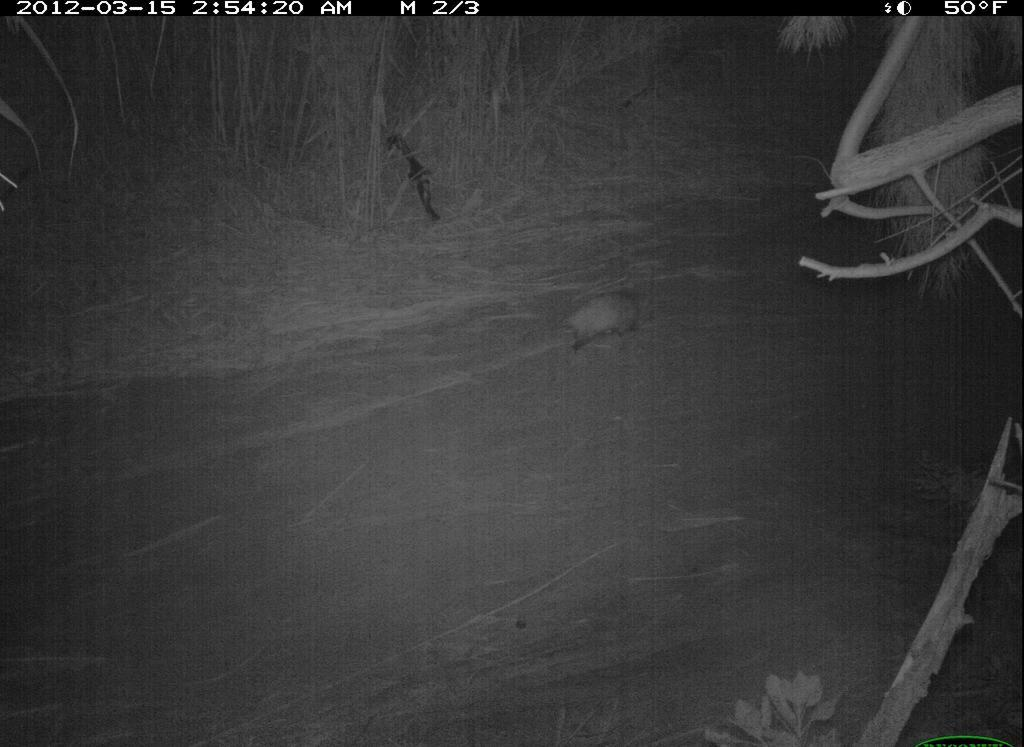opossum: (534, 280, 653, 353)
